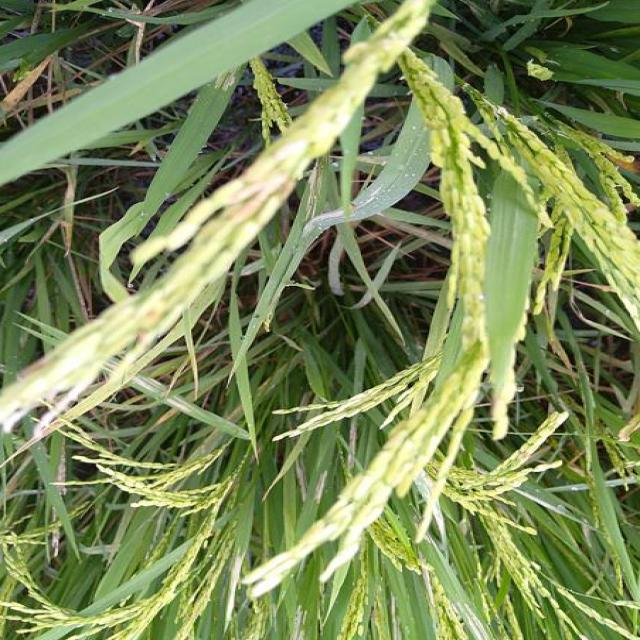Panicle Blight: (18, 351, 58, 383), (232, 195, 265, 221), (135, 313, 161, 346), (236, 182, 266, 200), (276, 179, 296, 196)
